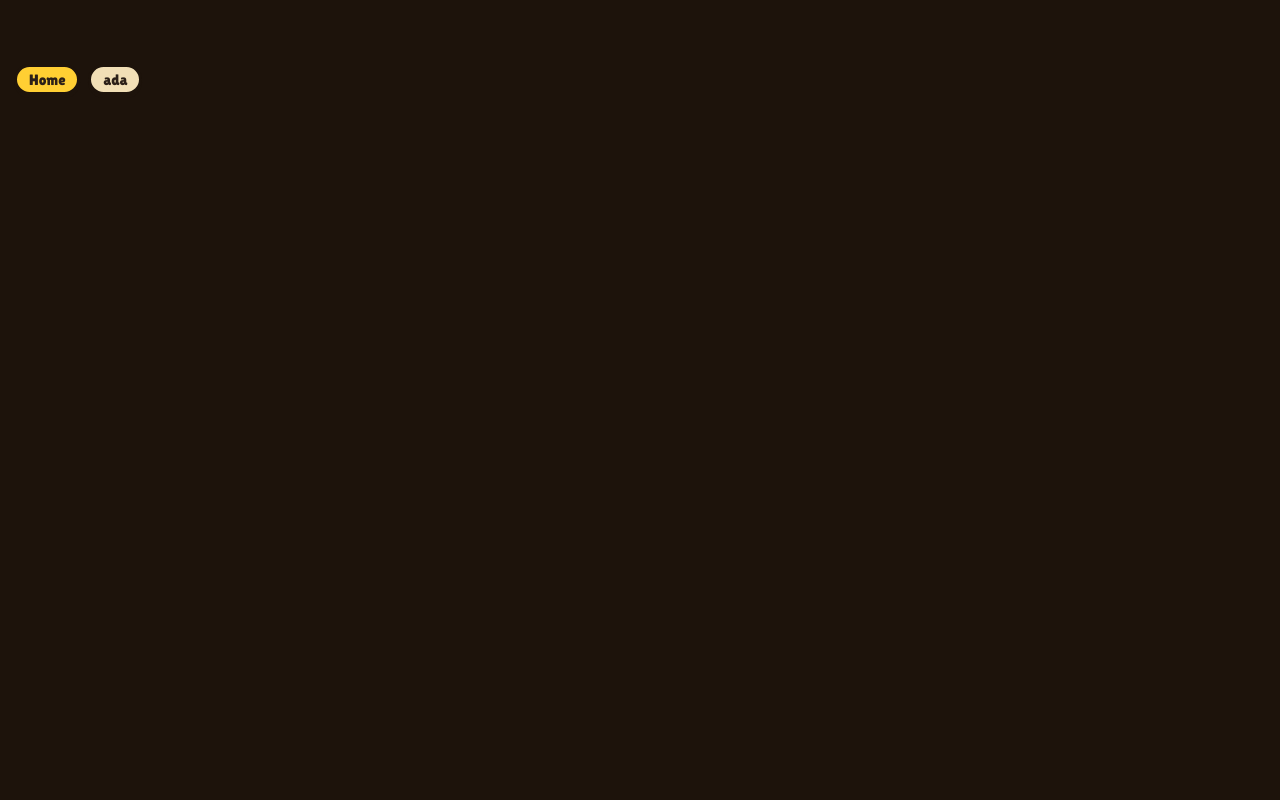
Test: the ribbon says your level there once the village has paired this Mac
The image size is (1280, 800).
Click the button "ada" at (116, 80), box top-left (88, 64), bottom-right (142, 95)
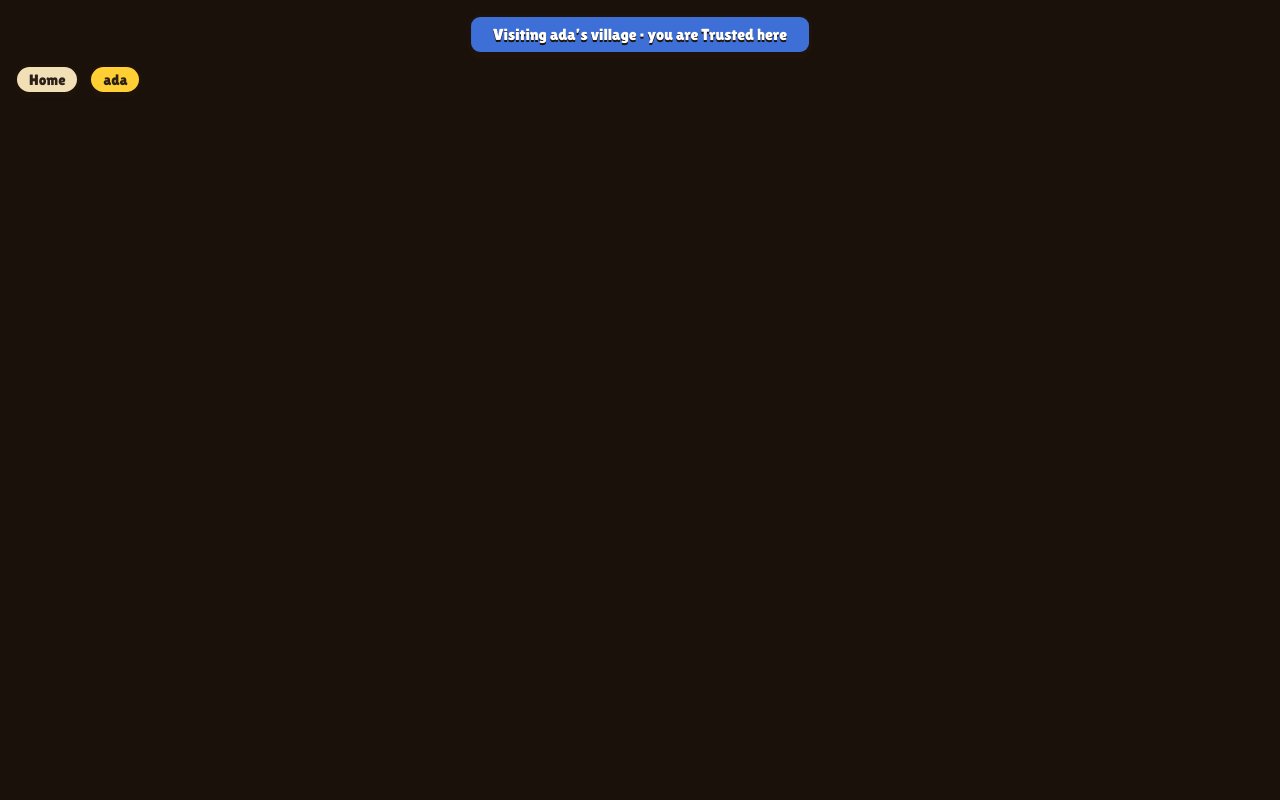
Result: the text "Visiting ada’s village · you are Trusted here" is shown at top-left (493, 25), bottom-right (787, 44)
